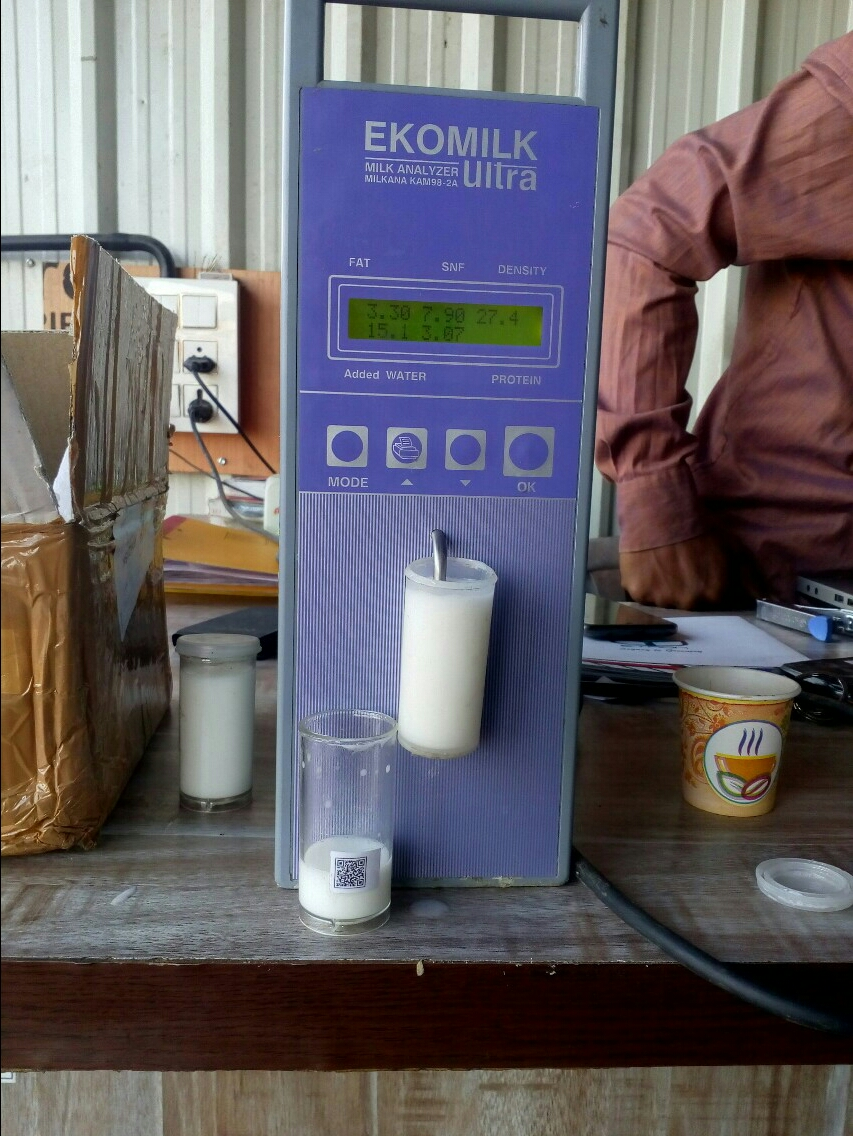lcd: (341, 292, 551, 356)
qr: (330, 850, 377, 892)
